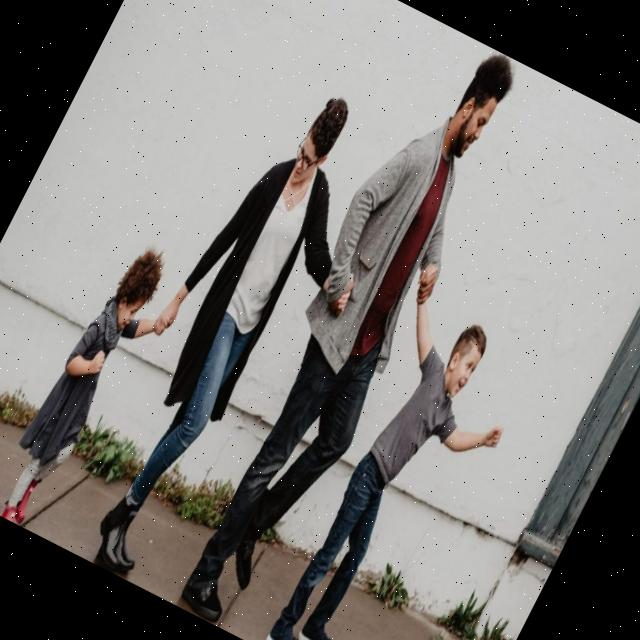Person: (151, 25, 541, 640), (44, 66, 428, 612), (238, 259, 559, 640), (0, 230, 197, 544)
